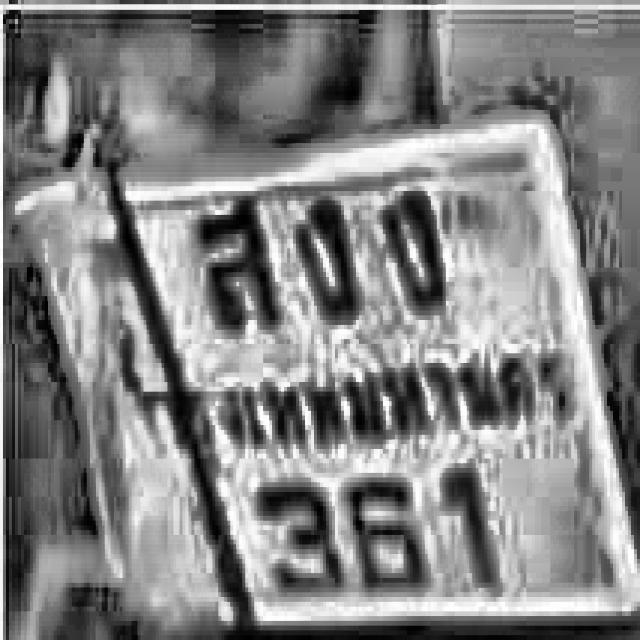license-plate: (52, 98, 640, 640)
